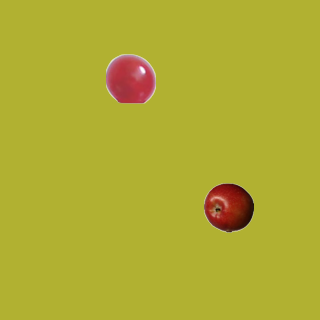Apple Braeburn: (203, 182, 253, 232)
Redcurrant: (105, 53, 155, 103)
